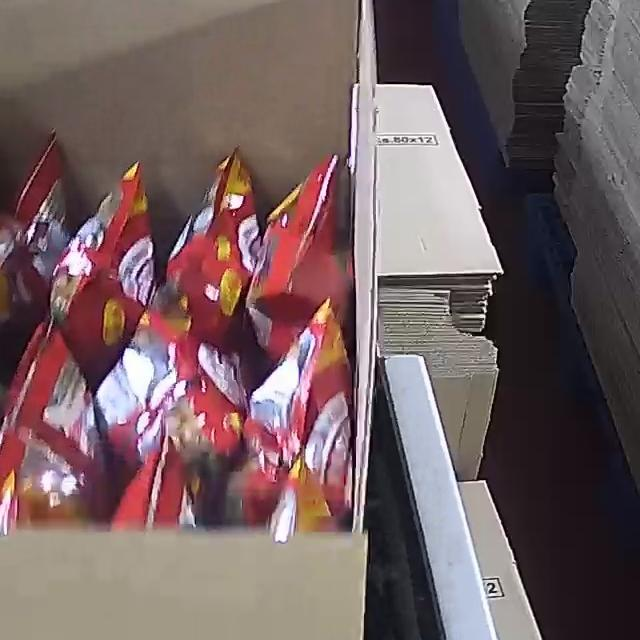masala: (0, 130, 358, 538)
